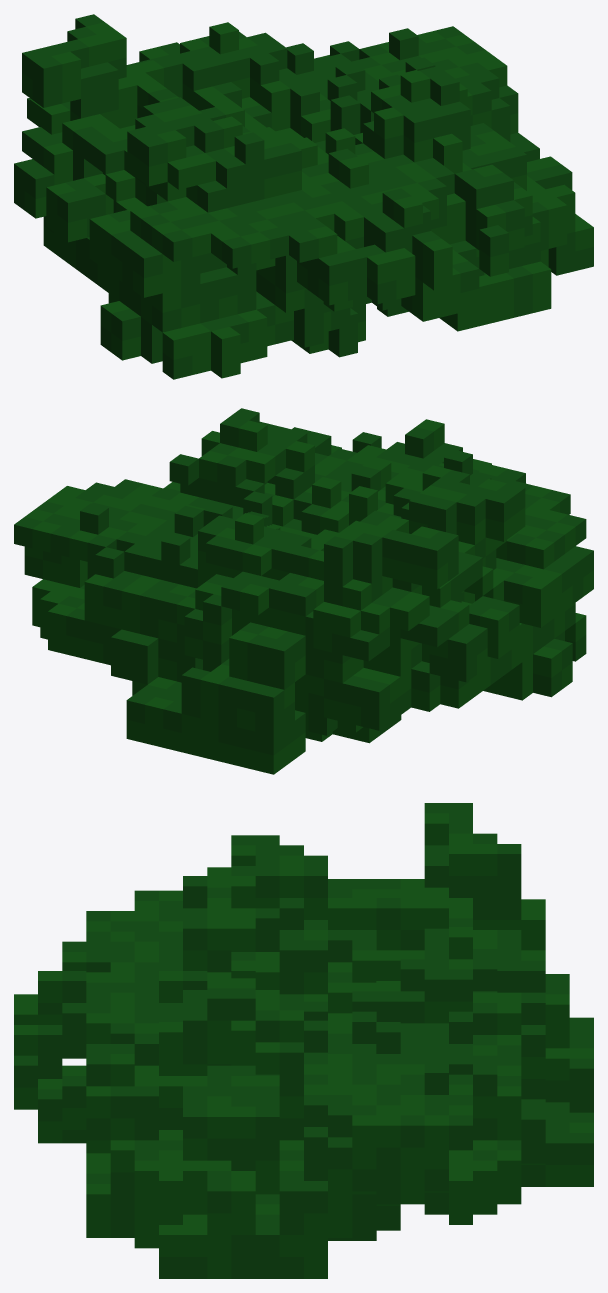
File: start_end-36.obj
The picture shows the model from 3 angles, top to bottom: view 1: azimuth 30°, elevation 25°; view 2: azimuth 150°, elevation 25°; view 3: azimuth 270°, elevation 25°; orthographic projection. The views are drawn at different scales.
Size of the model in its own units: 2.4 by 1.3 by 2.4.
Materials: 1 (1 with a texture image).
